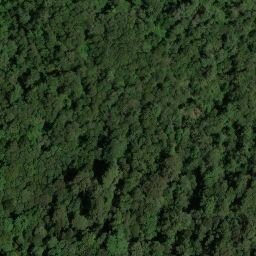forest: (1, 1, 256, 256)
